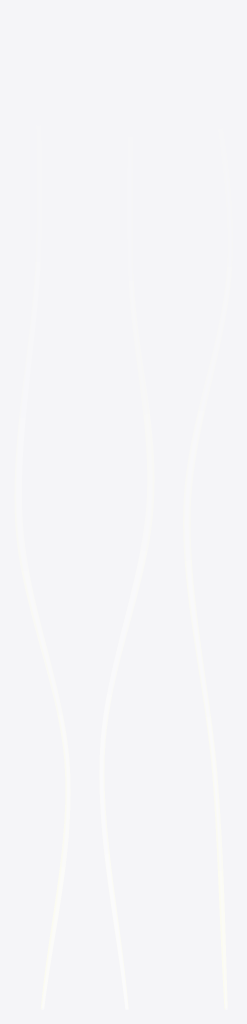
The model's file is strand_c_cairn.glb.
The picture shows the model from 3 angles, left to right: view 1: azimuth 30°, elevation 25°; view 2: azimuth 210°, elevation 25°; view 3: azimuth 330°, elevation 25°; orthographic projection.
Size of the model in its own units: 0.337 by 7 by 0.3138.
